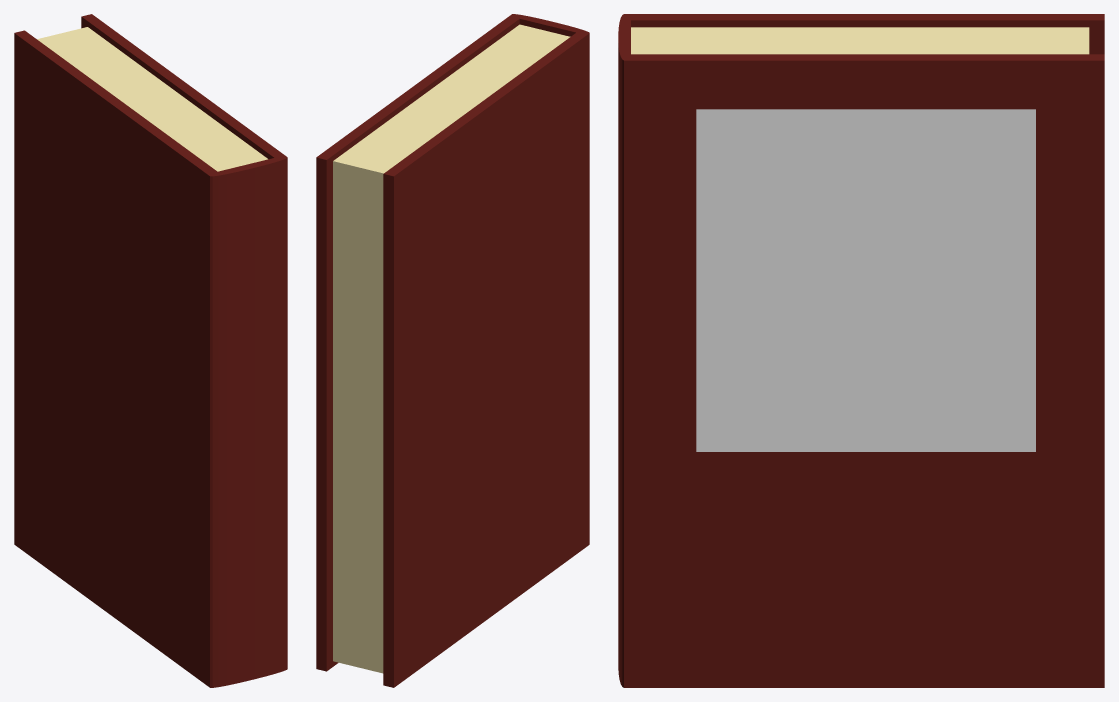
Rendered from Book1.fbx.
3 renders of one model, left to right at view 1: azimuth 30°, elevation 25°; view 2: azimuth 150°, elevation 25°; view 3: azimuth 270°, elevation 25°, orthographic. The views are drawn at different scales.
Parts seen in each view (by area): view 1: Cube.002, Cube.003, Cube, Cube.001; view 2: Cube.002, Cube, Cube.001, Cube.003; view 3: Cube.001, Plane, Cube, Cube.003, Cube.002.
Part boxes in pixels (x1,y1,x2,y2): Cube.002: (14,30,218,686); Cube.003: (208,156,287,687); Cube: (37,27,267,171); Cube.001: (81,14,285,159); Cube.002: (383,31,588,687); Cube: (333,24,570,673); Cube.001: (316,15,520,671); Cube.003: (511,14,589,545); Cube.001: (627,54,1104,687); Plane: (696,109,1035,451); Cube: (631,27,1089,54); Cube.003: (618,14,630,687); Cube.002: (627,14,1104,54).
Size of the model in its own units: 7.2 by 45 by 31.61.
